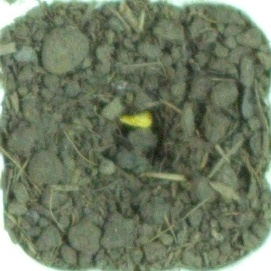chilli seed: (117, 106, 155, 132)
